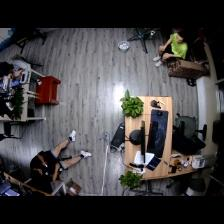normal: (29, 132, 92, 180), (153, 31, 188, 68), (2, 58, 30, 77)
